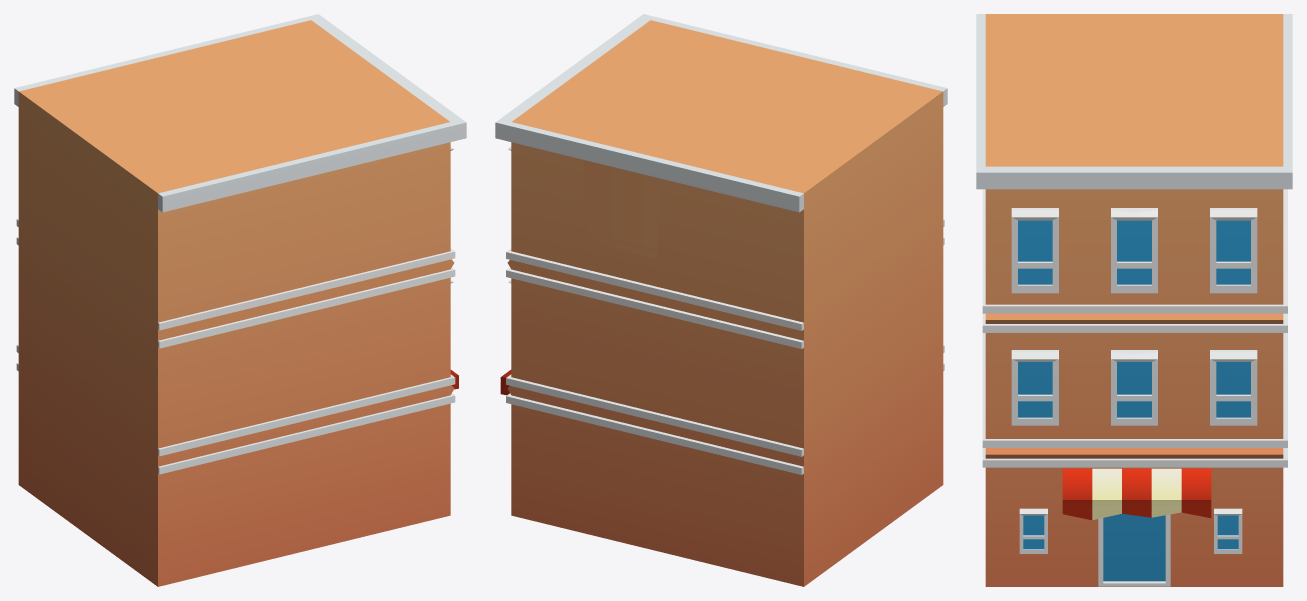
File: poly-store.gltf
3 views of the same model, side by side, from view 1: azimuth 30°, elevation 25°; view 2: azimuth 150°, elevation 25°; view 3: azimuth 270°, elevation 25° (orthographic). The views are drawn at different scales.
Visible parts, largest first — view 1: Cube002; view 2: Cube002; view 3: Cube002, Cube003.
Part boxes in pixels (x1=…): Cube002: x1=14, y1=14, x2=466, y2=586; Cube002: x1=495, y1=14, x2=947, y2=586; Cube002: x1=976, y1=14, x2=1292, y2=586; Cube003: x1=1062, y1=468, x2=1211, y2=520.
Size of the model in its own units: 5.59 by 6.24 by 4.26.
2 materials, 2 textured.
